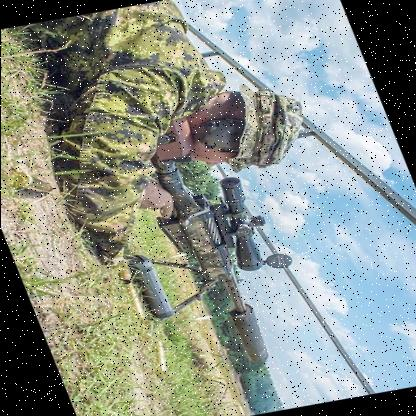rifle: (150, 147, 304, 343)
